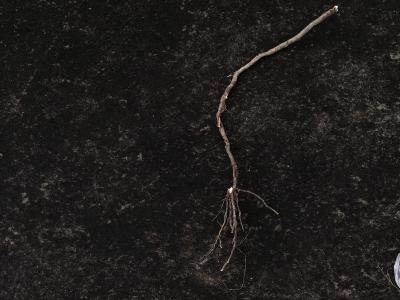Root: (271, 48, 275, 52)
